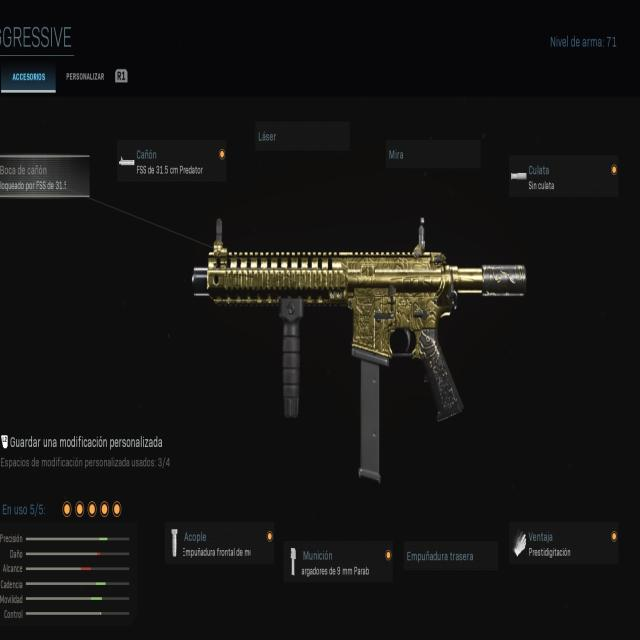Weapon: (193, 219, 526, 419)
